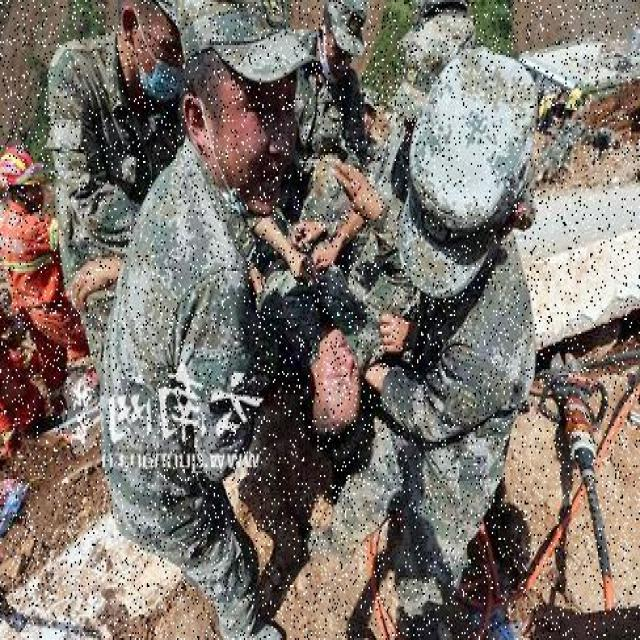fall: (250, 198, 386, 432)
